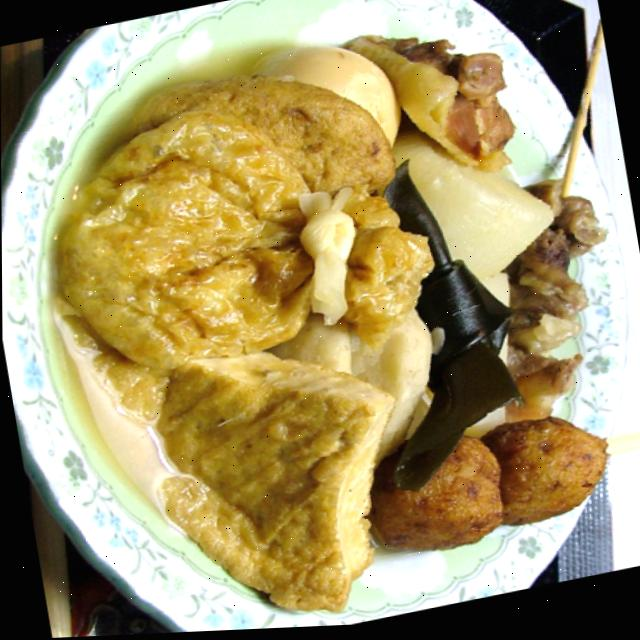汤锅炖物: (27, 0, 640, 639)
